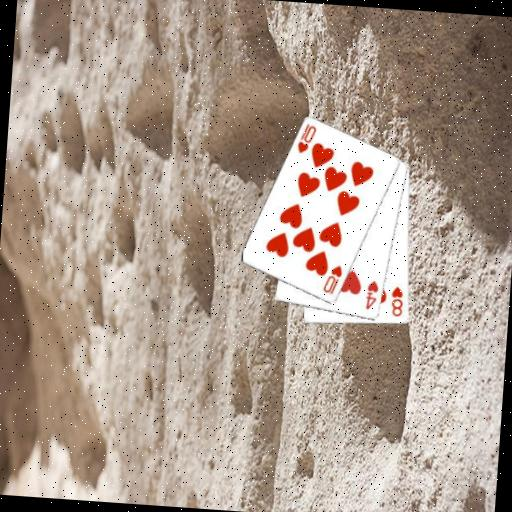10H: (320, 262, 345, 298), (294, 121, 318, 156)
4H: (362, 277, 381, 312)
8H: (387, 284, 406, 319)
